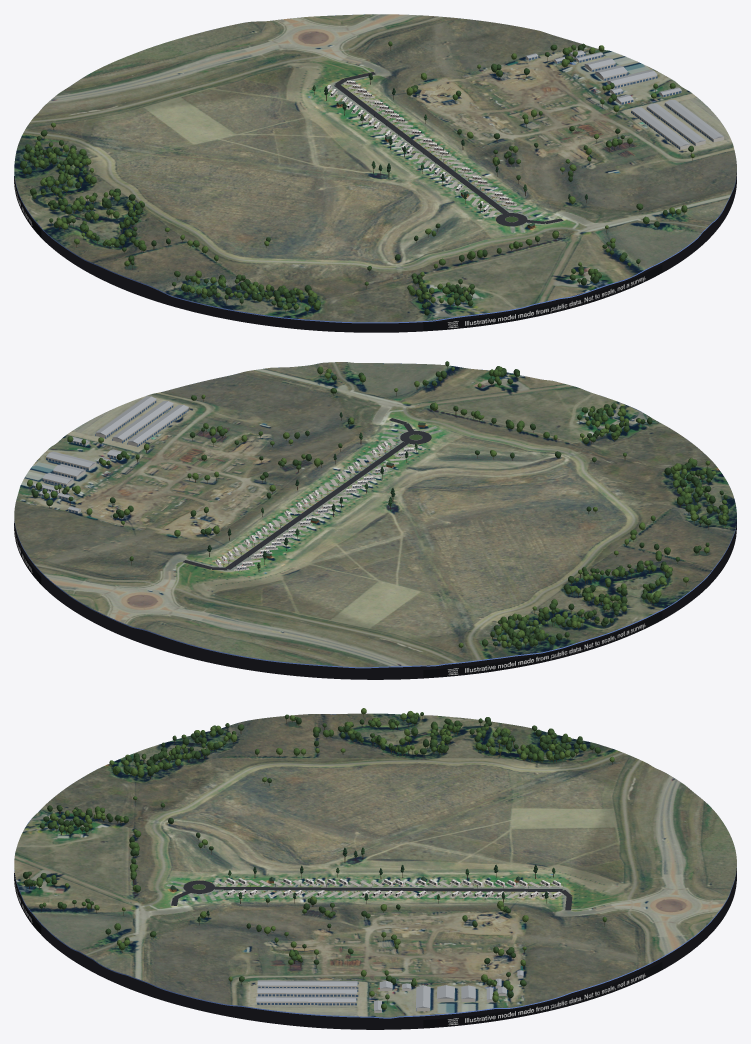
3 renders of one model, top to bottom at view 1: azimuth 30°, elevation 25°; view 2: azimuth 150°, elevation 25°; view 3: azimuth 270°, elevation 25°, orthographic.
Parts seen in each view (by area): view 1: ground_m, plinth_base, trees_leaf3, trees_leaf1, trees_leaf2, trees_leaf0, town_shed_roof, plinth_print, pads_concrete, drive_asphalt, plinth_band, town_shed (+3 smaller); view 2: ground_m, plinth_base, trees_leaf3, trees_leaf2, trees_leaf0, trees_leaf1, town_shed_roof, plinth_print, pads_concrete, drive_asphalt, plinth_band, town_shed (+3 smaller); view 3: ground_m, plinth_base, trees_leaf2, trees_leaf3, town_shed_roof, trees_leaf0, trees_leaf1, plinth_print, pads_concrete, drive_asphalt, plinth_band, town_shed (+3 smaller).
Boxes of the visible parts, x1,y1,x2,y2 form: ground_m: (14,14,736,322); plinth_base: (14,176,736,332); trees_leaf3: (29,45,694,311); trees_leaf1: (23,41,687,310); trees_leaf2: (25,43,667,315); trees_leaf0: (20,44,693,309); town_shed_roof: (525,50,723,146); plinth_print: (14,176,662,330); pads_concrete: (323,82,522,217); drive_asphalt: (334,72,563,226); plinth_band: (14,14,736,323); town_shed: (525,53,723,149); ground_m: (14,362,736,667); plinth_base: (14,522,736,679); trees_leaf3: (27,368,728,647); trees_leaf2: (31,368,724,649); trees_leaf0: (46,361,729,646); trees_leaf1: (42,366,727,645); town_shed_roof: (33,396,188,510); plinth_print: (14,523,662,677); pads_concrete: (214,438,422,571); drive_asphalt: (183,418,431,570); plinth_band: (14,363,736,668); town_shed: (33,399,188,513); ground_m: (14,713,736,1017); plinth_base: (14,871,736,1029); trees_leaf2: (23,713,594,997); trees_leaf3: (50,708,614,1002); town_shed_roof: (256,970,523,1010); trees_leaf0: (26,712,600,986); trees_leaf1: (27,712,606,1009); plinth_print: (14,873,662,1027); pads_concrete: (214,879,563,898); drive_asphalt: (171,880,572,910); plinth_band: (14,714,736,1018); town_shed: (256,975,523,1012).
Size of the model in its own units: 0.6 by 0.0268 by 0.6002.
Materials: 59 (6 with a texture image).
